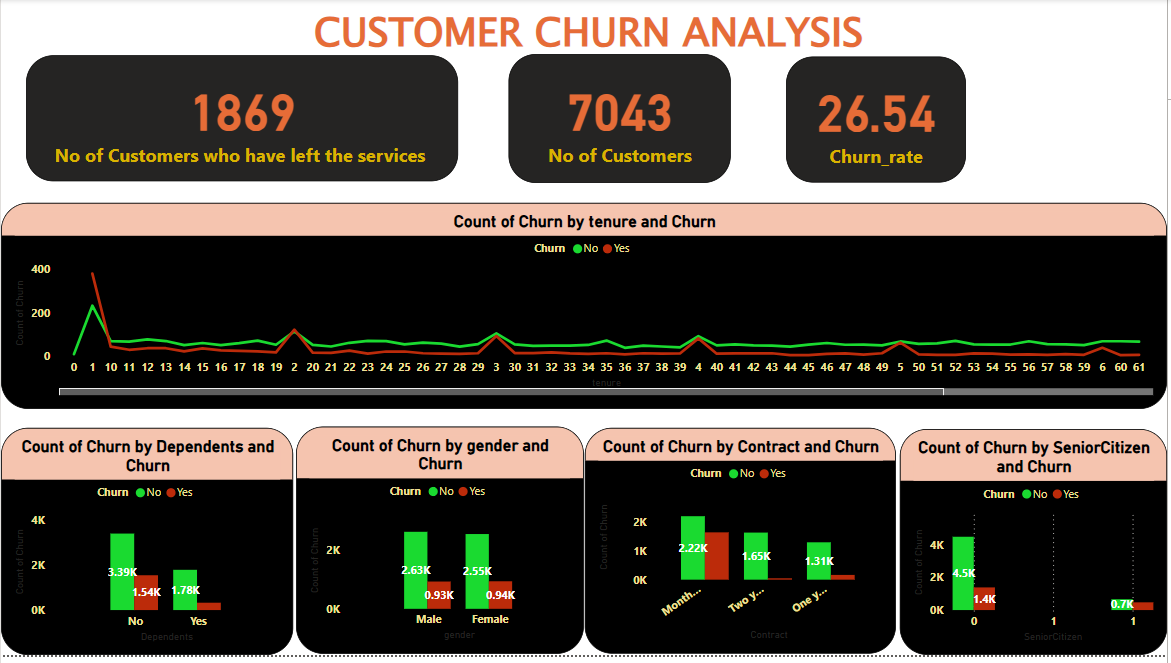

This screenshot's page, from the dashboard's own definition file:
{"tool":"powerbi","page":{"name":"Page 1","canvas":[1280,720],"ordinal":0},"visuals":[{"type":"textbox","box":[9.6,0,1270.7,189.4],"z":0},{"type":"card","fields":{"Values":["CountNonNull(Cutomer_churn_analysis.Customer ID)"]},"box":[557.1,60.4,244.3,141.3],"z":1000},{"type":"card","fields":{"Values":["CountNonNull(Cutomer_churn_analysis.Churn)"]},"box":[27.4,61.7,474.8,138.6],"z":2000},{"type":"clusteredColumnChart","fields":{"Y":["CountNonNull(Cutomer_churn_analysis.Churn)"],"Series":["Cutomer_churn_analysis.Churn"],"Category":["Cutomer_churn_analysis.Dependents"]},"box":[0,470.7,321.1,249.7],"z":3000},{"type":"clusteredColumnChart","fields":{"Y":["CountNonNull(Cutomer_churn_analysis.Churn)"],"Series":["Cutomer_churn_analysis.Churn"],"Category":["Cutomer_churn_analysis.gender"]},"box":[323.8,469.3,315.6,249.7],"z":4000},{"type":"clusteredColumnChart","fields":{"Y":["CountNonNull(Cutomer_churn_analysis.Churn)"],"Series":["Cutomer_churn_analysis.Churn"],"Category":["Cutomer_churn_analysis.Contract"]},"box":[640.8,470.7,341.7,248.4],"z":5000},{"type":"card","fields":{"Values":["Cutomer_churn_analysis.Churn_rate"]},"box":[861.8,63.1,197.6,138.6],"z":6000},{"type":"lineChart","fields":{"Category":["Cutomer_churn_analysis.tenure"],"Y":["CountNonNull(Cutomer_churn_analysis.Churn)"],"Series":["Cutomer_churn_analysis.Churn"]},"box":[0,223.7,1280.3,226.4],"z":7000},{"type":"clusteredColumnChart","fields":{"Category":["Cutomer_churn_analysis.SeniorCitizen"],"Y":["CountNonNull(Cutomer_churn_analysis.Churn)"],"Series":["Cutomer_churn_analysis.Churn"]},"box":[986.6,472,293.7,248.4],"z":7001}]}

Visuals, with their boxes in screenshot pixels (x1, y1, x2, y2), scaled from the page's 1280x720 canvas onto the 1171x663 screenshot:
textbox: box=[9, 0, 1170, 174]
card - CountNonNull(Cutomer_churn_analysis.Customer ID): box=[510, 56, 733, 186]
card - CountNonNull(Cutomer_churn_analysis.Churn): box=[25, 57, 459, 184]
clusteredColumnChart - CountNonNull(Cutomer_churn_analysis.Churn) x Cutomer_churn_analysis.Churn: box=[0, 433, 294, 662]
clusteredColumnChart - CountNonNull(Cutomer_churn_analysis.Churn) x Cutomer_churn_analysis.Churn: box=[296, 432, 585, 662]
clusteredColumnChart - CountNonNull(Cutomer_churn_analysis.Churn) x Cutomer_churn_analysis.Churn: box=[586, 433, 899, 662]
card - Cutomer_churn_analysis.Churn_rate: box=[788, 58, 969, 186]
lineChart - Cutomer_churn_analysis.tenure x CountNonNull(Cutomer_churn_analysis.Churn): box=[0, 206, 1170, 414]
clusteredColumnChart - Cutomer_churn_analysis.SeniorCitizen x CountNonNull(Cutomer_churn_analysis.Churn): box=[903, 435, 1170, 662]
